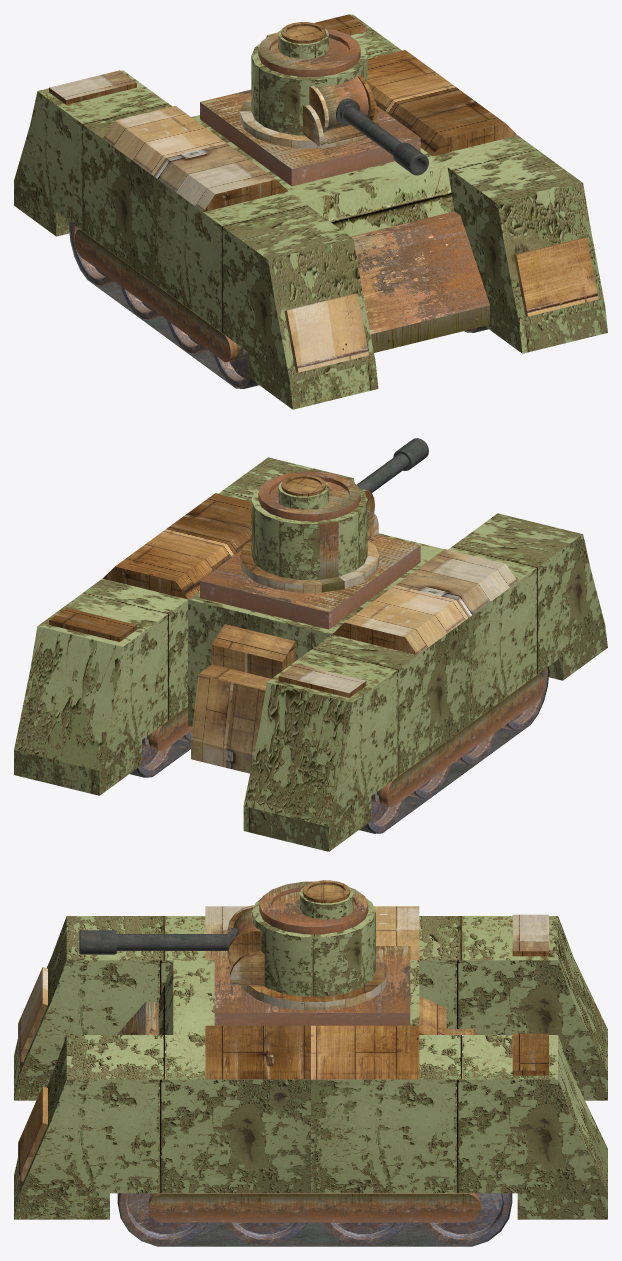
Rendered from Tank.FBX.
3 renders of one model, top to bottom at view 1: azimuth 30°, elevation 25°; view 2: azimuth 150°, elevation 25°; view 3: azimuth 270°, elevation 25°, orthographic. The views are drawn at different scales.
Visible parts, largest first — view 1: Box003, Cylinder001, Cylinder011, Cylinder004, Cylinder002, Cylinder010, Cylinder003, Cylinder005, Cylinder008; view 2: Box003, Cylinder001, Cylinder011, Cylinder004, Cylinder010, Cylinder019, Cylinder008, Cylinder015, Cylinder005; view 3: Box003, Cylinder001, Cylinder013, Cylinder016, Cylinder004, Cylinder018, Cylinder015, Cylinder014, Cylinder017, Cylinder002, Cylinder003.
Part boxes in pixels (left/top/right/bottom): Box003: left=14, top=14, right=607, bottom=409; Cylinder001: left=239, top=22, right=379, bottom=148; Cylinder011: left=74, top=229, right=239, bottom=362; Cylinder004: left=336, top=98, right=428, bottom=175; Cylinder002: left=309, top=74, right=374, bottom=133; Cylinder010: left=69, top=221, right=258, bottom=388; Cylinder003: left=303, top=105, right=378, bottom=146; Cylinder005: left=213, top=345, right=250, bottom=387; Cylinder008: left=70, top=222, right=115, bottom=285; Box003: left=14, top=457, right=607, bottom=851; Cylinder001: left=239, top=471, right=379, bottom=592; Cylinder011: left=379, top=674, right=543, bottom=806; Cylinder004: left=357, top=438, right=428, bottom=492; Cylinder010: left=359, top=666, right=549, bottom=833; Cylinder019: left=148, top=706, right=192, bottom=750; Cylinder008: left=368, top=790, right=404, bottom=832; Cylinder015: left=138, top=735, right=174, bottom=776; Cylinder005: left=502, top=667, right=547, bottom=730; Box003: left=14, top=906, right=607, bottom=1219; Cylinder001: left=242, top=880, right=388, bottom=1010; Cylinder013: left=148, top=1193, right=481, bottom=1222; Cylinder016: left=117, top=1193, right=512, bottom=1246; Cylinder004: left=79, top=928, right=237, bottom=954; Cylinder018: left=118, top=1193, right=207, bottom=1245; Cylinder015: left=422, top=1193, right=510, bottom=1245; Cylinder014: left=323, top=1222, right=405, bottom=1245; Cylinder017: left=224, top=1222, right=306, bottom=1245; Cylinder002: left=227, top=905, right=261, bottom=967; Cylinder003: left=230, top=951, right=264, bottom=984.
Bounding box in the file's own units: 87.56 × 69.89 × 134.
